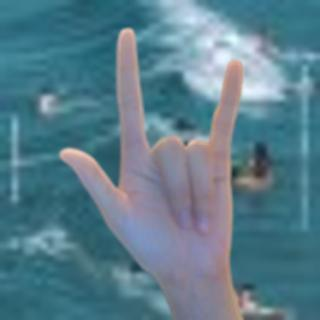ILY: (53, 24, 254, 281)
